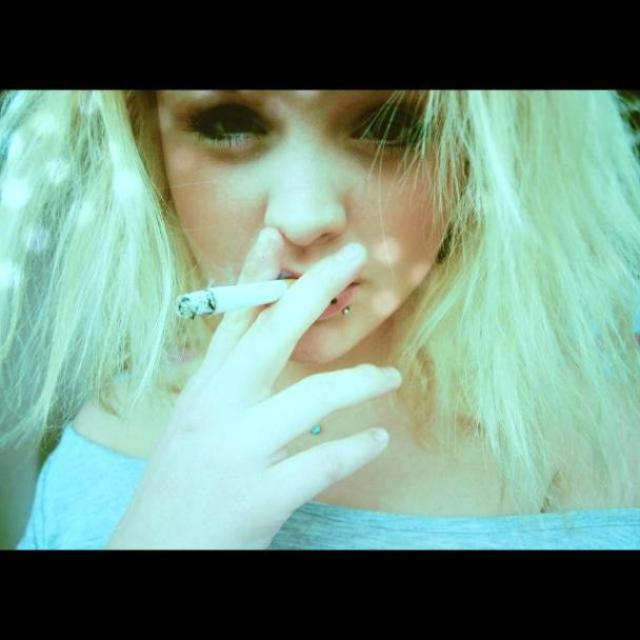rokok: (166, 281, 308, 327)
